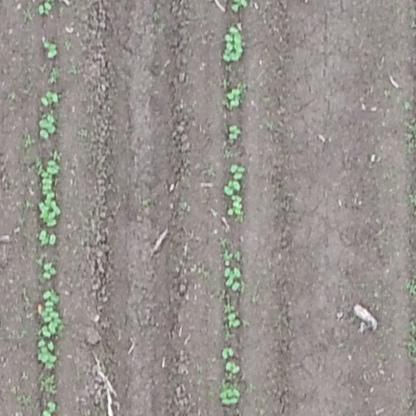vc: (40, 289, 65, 335), (223, 24, 244, 63), (37, 192, 62, 223), (36, 340, 60, 370), (42, 156, 60, 189), (36, 113, 57, 138), (225, 83, 243, 111), (36, 229, 61, 247), (219, 386, 241, 406), (224, 267, 242, 290), (226, 124, 244, 142), (41, 261, 58, 280), (43, 40, 60, 58), (41, 89, 58, 107), (221, 181, 241, 195), (229, 163, 246, 179), (228, 198, 242, 217), (37, 2, 53, 17), (227, 313, 241, 328), (225, 362, 241, 375), (221, 346, 235, 359)
